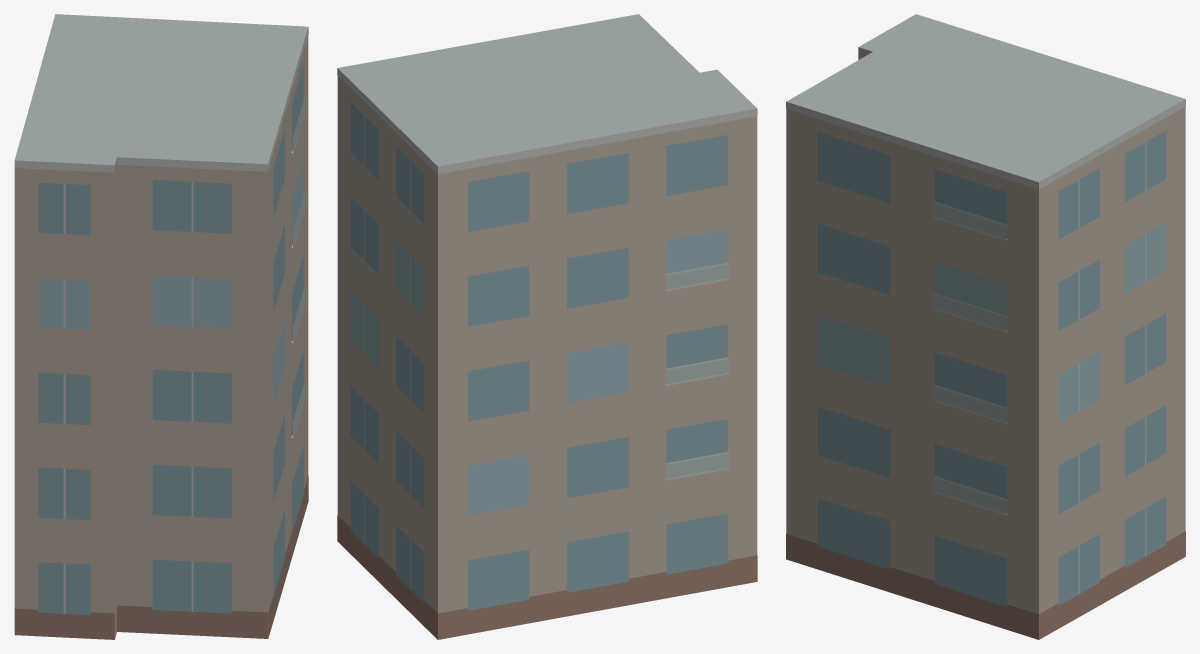
Rendered from survey-upis-32587271.glb.
3 renders of one model, left to right at view 1: azimuth 30°, elevation 25°; view 2: azimuth 150°, elevation 25°; view 3: azimuth 270°, elevation 25°, orthographic. The views are drawn at different scales.
Parts seen in each view (by area): view 1: survey-upis-32587271.tmp; view 2: survey-upis-32587271.tmp; view 3: survey-upis-32587271.tmp.
Boxes of the visible parts, x1,y1,x2,y2 form: survey-upis-32587271.tmp: (14,14,308,639); survey-upis-32587271.tmp: (337,14,757,639); survey-upis-32587271.tmp: (786,14,1185,639).
Bounding box in the file's own units: 12.03 × 15.25 × 12.07.
